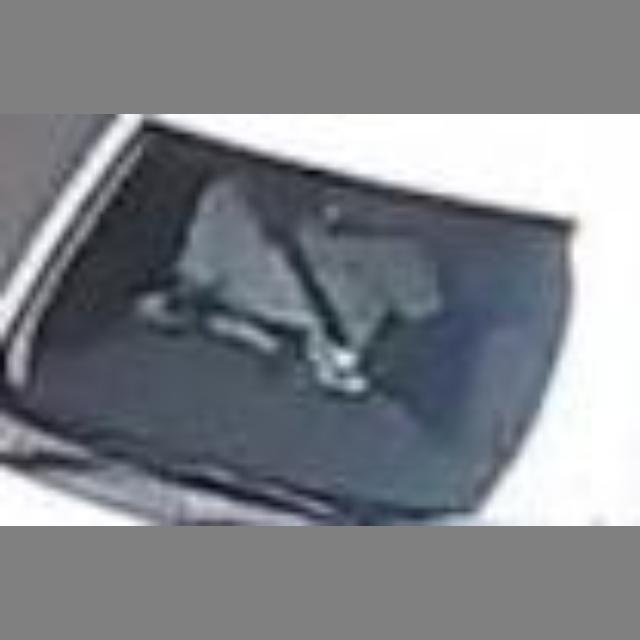pakai: (191, 169, 443, 379)
